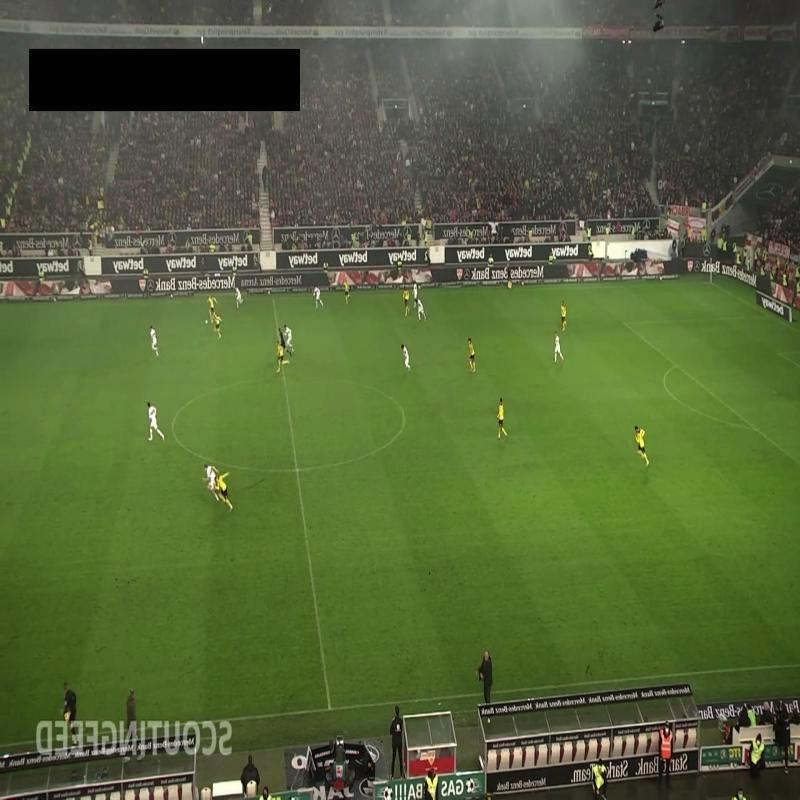1: (703, 276, 717, 290)
10: (669, 356, 683, 370)
11: (748, 422, 762, 436)
13: (266, 292, 280, 306)
14: (278, 372, 292, 386)
15: (290, 464, 303, 478)
16: (320, 699, 338, 719)
2: (765, 310, 779, 324)
7: (770, 347, 784, 361)
9: (619, 316, 634, 330)
c: (164, 421, 181, 435), (397, 406, 411, 420)
